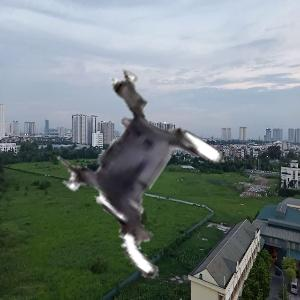drone: (47, 82, 231, 266)
